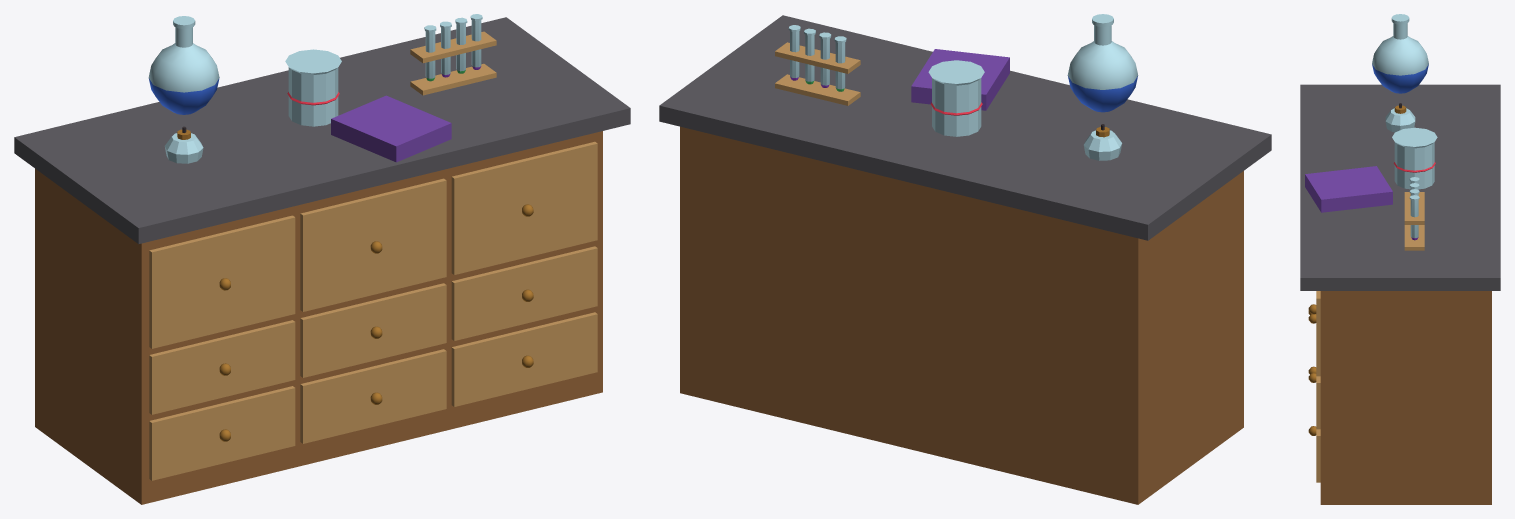
File: lab-bench-pixor.glb
The picture shows the model from 3 angles, left to right: view 1: azimuth 30°, elevation 25°; view 2: azimuth 150°, elevation 25°; view 3: azimuth 270°, elevation 25°; orthographic projection. The views are drawn at different scales.
Parts seen in each view (by area): view 1: Bench drawers, Bench top, Bench body, Bench book, Bench flask, Bench beaker, Bench tube rack, Bench tubes, Bench knobs, Bench burner; view 2: Bench body, Bench top, Bench flask, Bench beaker, Bench book, Bench tube rack, Bench tubes, Bench burner; view 3: Bench body, Bench top, Bench book, Bench flask, Bench beaker, Bench drawers, Bench tube rack, Bench burner, Bench tubes, Bench knobs.
Part boxes in pixels (x1=…): Bench drawers: x1=149, y1=141, x2=597, y2=480; Bench top: x1=14, y1=17, x2=630, y2=244; Bench body: x1=35, y1=131, x2=602, y2=504; Bench book: x1=331, y1=95, x2=451, y2=162; Bench flask: x1=148, y1=16, x2=219, y2=114; Bench beaker: x1=285, y1=49, x2=341, y2=126; Bench tube rack: x1=410, y1=31, x2=496, y2=95; Bench tubes: x1=424, y1=14, x2=482, y2=81; Bench knobs: x1=219, y1=204, x2=533, y2=441; Bench burner: x1=164, y1=126, x2=203, y2=163; Bench body: x1=680, y1=126, x2=1243, y2=504; Bench top: x1=659, y1=15, x2=1271, y2=240; Bench flask: x1=1067, y1=14, x2=1138, y2=112; Bench beaker: x1=928, y1=60, x2=984, y2=136; Bench book: x1=911, y1=49, x2=1009, y2=110; Bench tube rack: x1=775, y1=42, x2=860, y2=105; Bench tubes: x1=788, y1=25, x2=846, y2=91; Bench burner: x1=1083, y1=124, x2=1122, y2=160; Bench body: x1=1320, y1=291, x2=1491, y2=504; Bench top: x1=1300, y1=84, x2=1500, y2=290; Bench book: x1=1305, y1=166, x2=1392, y2=212; Bench flask: x1=1372, y1=14, x2=1428, y2=93; Bench beaker: x1=1392, y1=127, x2=1437, y2=189; Bench drawers: x1=1316, y1=291, x2=1320, y2=482; Bench tube rack: x1=1404, y1=192, x2=1424, y2=250; Bench burner: x1=1385, y1=103, x2=1415, y2=132; Bench tubes: x1=1409, y1=177, x2=1419, y2=240; Bench knobs: x1=1308, y1=304, x2=1316, y2=435.
Bounding box in the file's own units: 1.6 × 1.32 × 0.7001.
